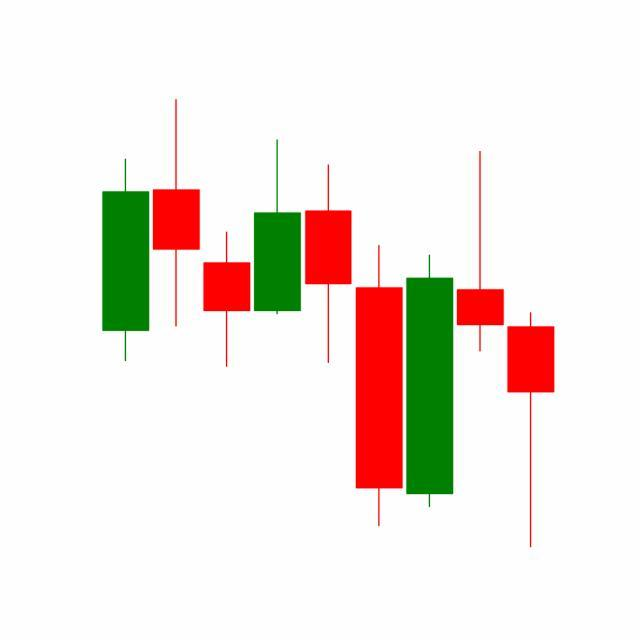Hikkake Pattern: (252, 136, 506, 532)
